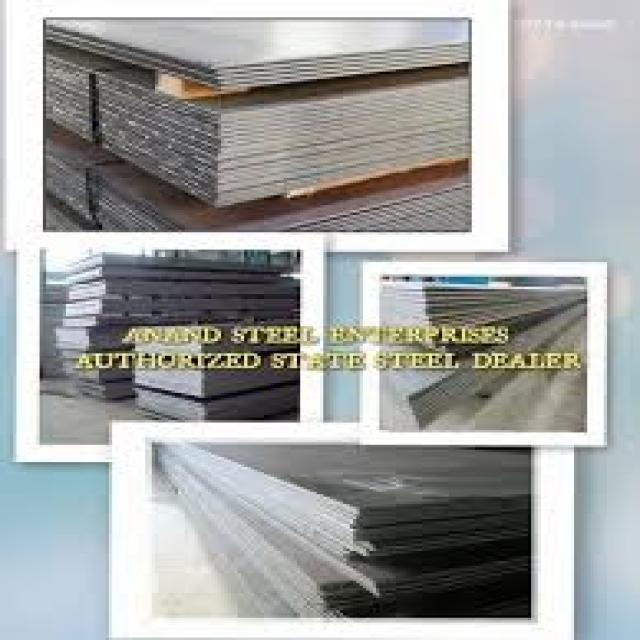Dry: (49, 20, 468, 210), (155, 445, 528, 615)
